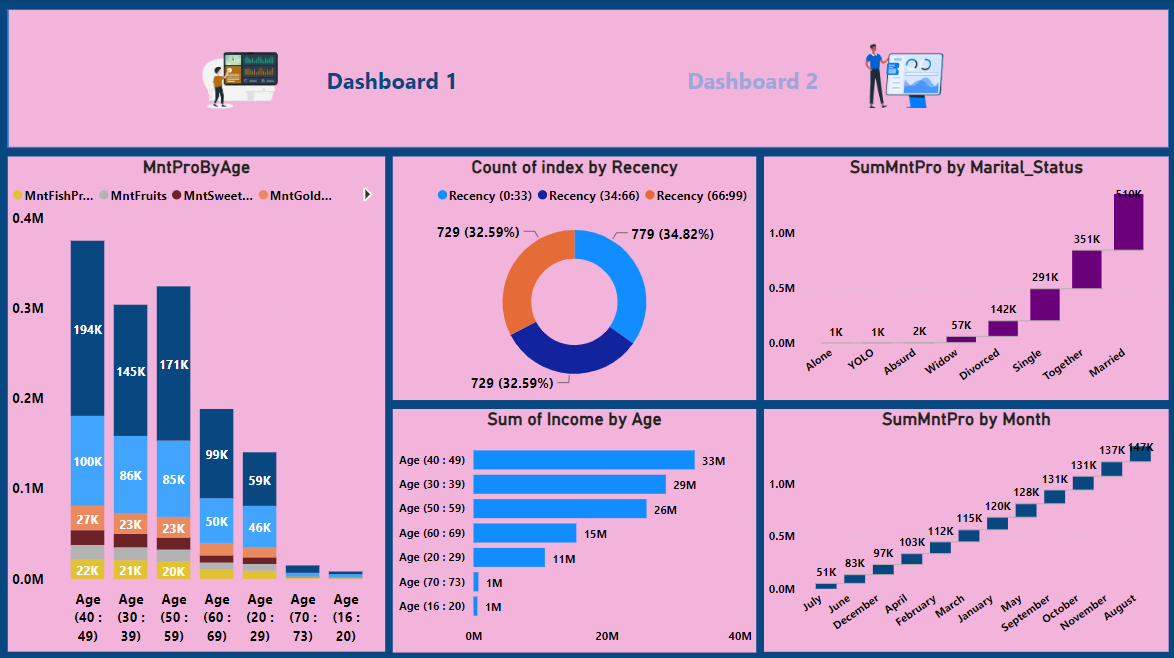

Layout of this report page (visuals, bound fields, positions):
{"tool":"powerbi","page":{"name":"Page 1","canvas":[1280,720],"ordinal":0},"visuals":[{"type":"waterfallChart","fields":{"Category":["Sheet1.Dt_Customer.Variation.Date Hierarchy.Month"],"Y":["Sum(Sheet1.SumMntPro)"]},"box":[831.8,445.8,440.3,263.7],"z":0},{"type":"waterfallChart","fields":{"Category":["Sheet1.Marital_Status"],"Y":["Sum(Sheet1.SumMntPro)"]},"box":[831.8,171.2,440.3,265],"z":1000},{"type":"columnChart","title":"MntProByAge","fields":{"Category":["Sheet1.Age (groups)"],"Y":["Sum(Sheet1.MntFishProducts)","Sum(Sheet1.MntFruits)","Sum(Sheet1.MntSweetProducts)","Sum(Sheet1.MntGoldProds)","Sum(Sheet1.MntMeatProducts)","Sum(Sheet1.MntWines)"]},"box":[9.5,171.2,410.4,538.2],"z":2000},{"type":"barChart","title":"Sum of Income by Age ","fields":{"Category":["Sheet1.Age (groups)"],"Y":["Sum(Sheet1.Income)"]},"box":[428.1,445.8,395.5,265],"z":3000},{"type":"donutChart","title":"Count of index by Recency ","fields":{"Category":["Sheet1.Recency (Category)"],"Y":["CountNonNull(Sheet1.Index)"]},"box":[428.1,171.2,395.5,265],"z":4000},{"type":"shape","box":[9.5,10.9,1262.6,150.9],"z":5000},{"type":"actionButton","box":[334.3,36.7,186.2,104.7],"z":6000},{"type":"actionButton","box":[724.4,36.7,190.3,104.7],"z":7000},{"type":"image","box":[187.6,12.2,146.8,150.9],"z":8000},{"type":"image","box":[914.7,23.1,137.3,118.2],"z":9000}]}

Visuals, with their boxes in screenshot pixels (x1, y1, x2, y2), scaled from the page's 1280x720 canvas onto the 1174x658 screenshot:
waterfallChart - Sheet1.Dt_Customer.Variation.Date Hierarchy.Month x Sum(Sheet1.SumMntPro): (left=763, top=407, right=1167, bottom=648)
waterfallChart - Sheet1.Marital_Status x Sum(Sheet1.SumMntPro): (left=763, top=156, right=1167, bottom=399)
"MntProByAge" columnChart: (left=9, top=156, right=385, bottom=648)
"Sum of Income by Age " barChart: (left=393, top=407, right=755, bottom=650)
"Count of index by Recency " donutChart: (left=393, top=156, right=755, bottom=399)
shape: (left=9, top=10, right=1167, bottom=148)
actionButton: (left=307, top=34, right=477, bottom=129)
actionButton: (left=664, top=34, right=839, bottom=129)
image: (left=172, top=11, right=307, bottom=149)
image: (left=839, top=21, right=965, bottom=129)
